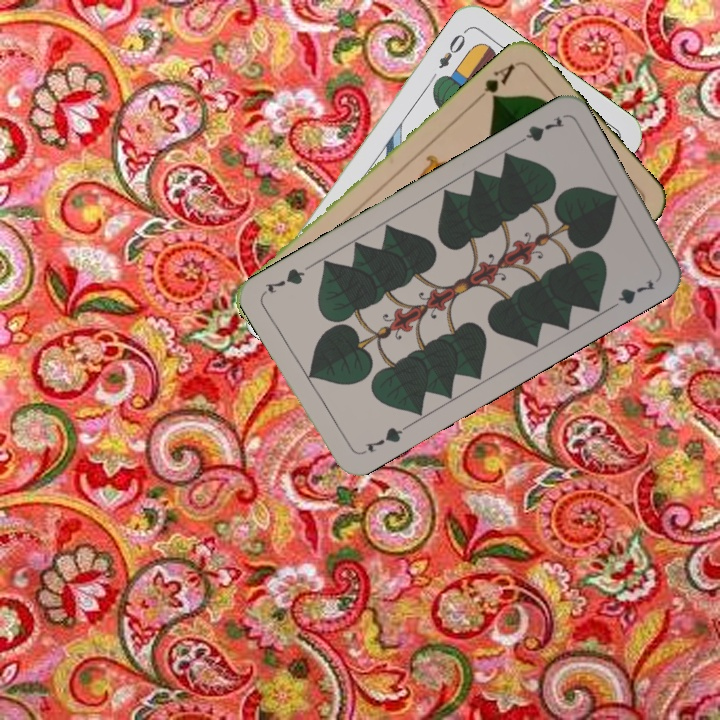EO: (434, 25, 470, 72)
G7: (511, 112, 567, 149), (355, 421, 410, 458)
GA: (472, 59, 520, 104)
